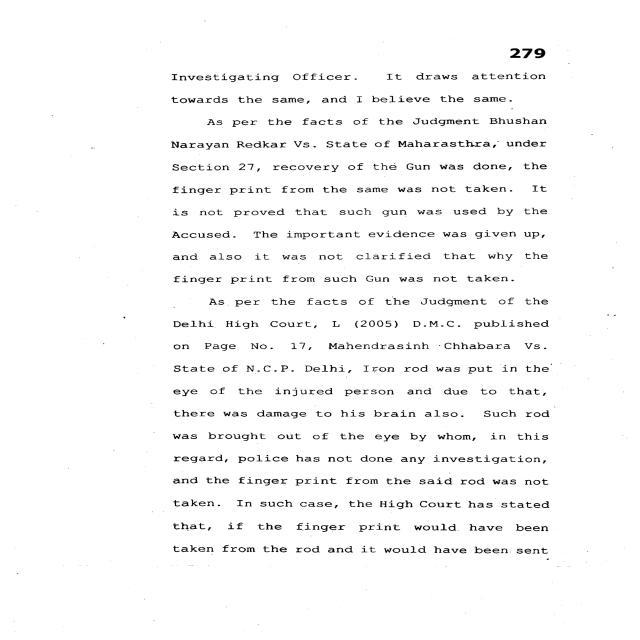page-number: (418, 0, 632, 66)
